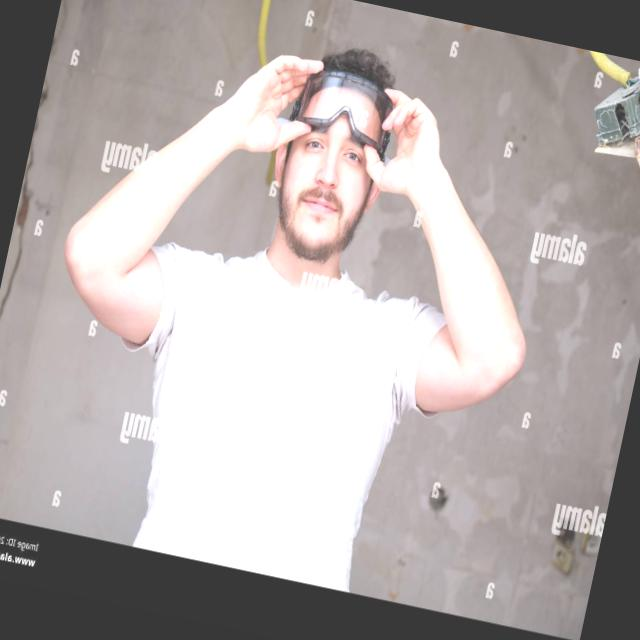goggles: (284, 60, 410, 162)
no-helmet: (312, 0, 421, 87)
no-vest: (116, 236, 423, 594)
